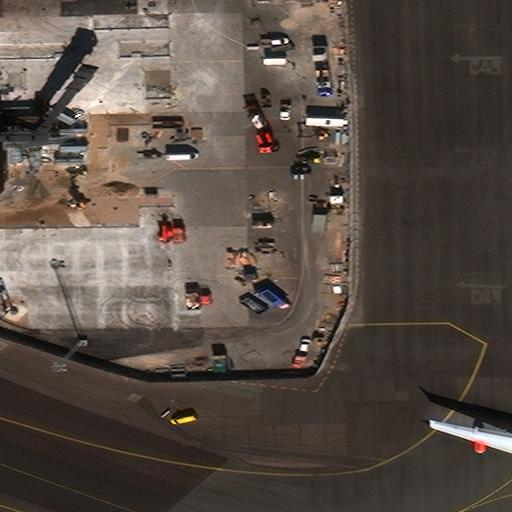Large Civil Transport: (430, 388, 511, 488)
